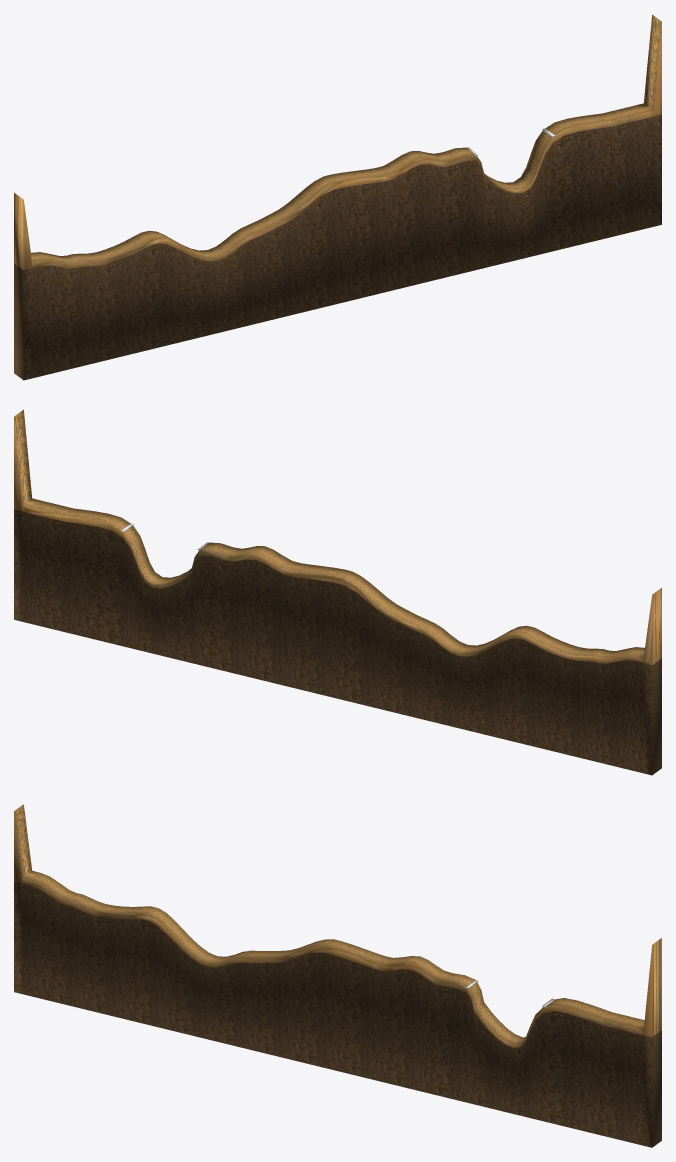
Rendered from Level2.fbx.
The picture shows the model from 3 angles, top to bottom: view 1: azimuth 30°, elevation 25°; view 2: azimuth 150°, elevation 25°; view 3: azimuth 330°, elevation 25°; orthographic projection.
Parts seen in each view (by area): view 1: top; view 2: top; view 3: top.
Part boxes in pixels (x1,y1,x2,y2): top: (14,14,661,380); top: (14,409,661,775); top: (14,804,661,1147).
Size of the model in its own units: 300 by 91.24 by 8.01.
